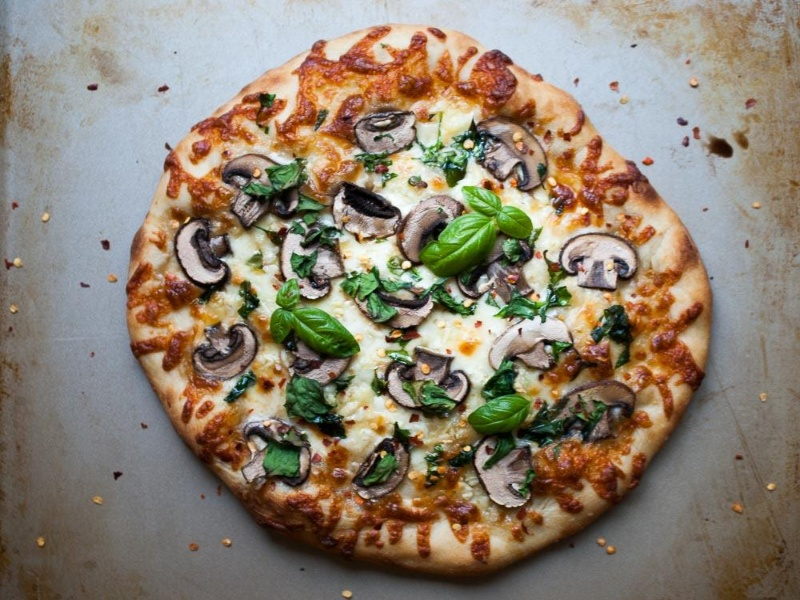champignon: (467, 118, 558, 203), (218, 151, 309, 228), (376, 344, 473, 416), (477, 311, 581, 376), (557, 375, 648, 448), (550, 228, 647, 296), (472, 433, 543, 519), (171, 221, 243, 291), (331, 184, 416, 242), (190, 320, 268, 382), (348, 105, 429, 164)
